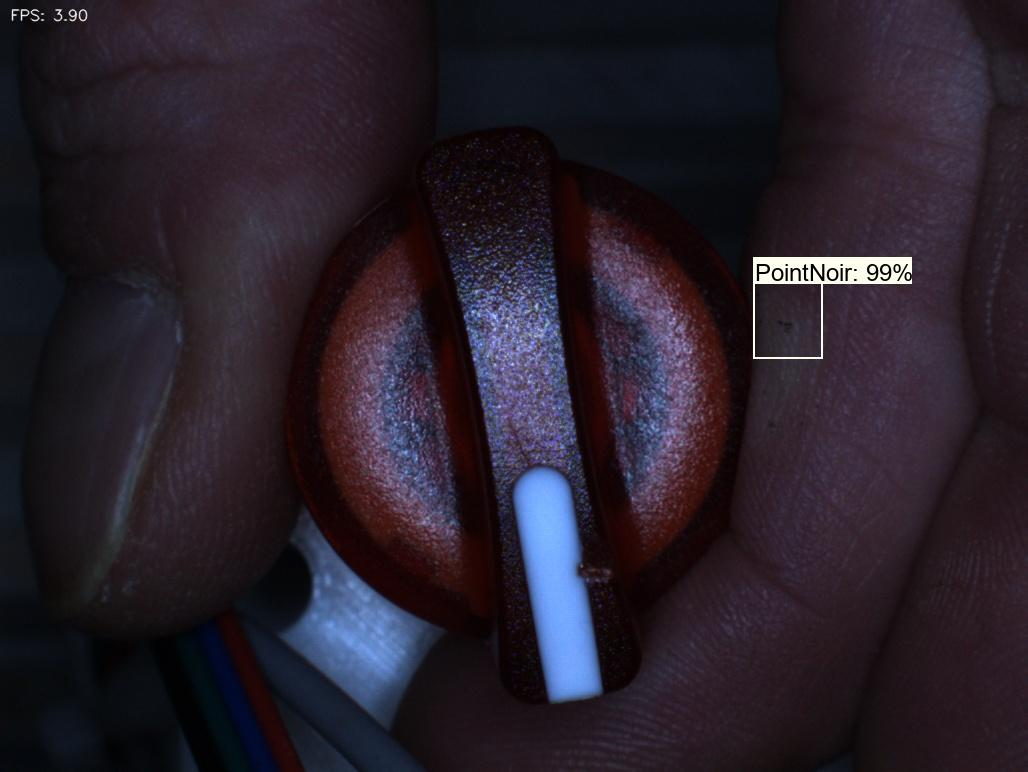Choc: (560, 533, 644, 617)
